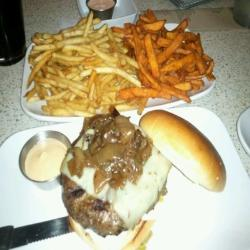burger: (70, 112, 225, 248)
fries: (31, 25, 126, 111), (122, 19, 218, 104)
